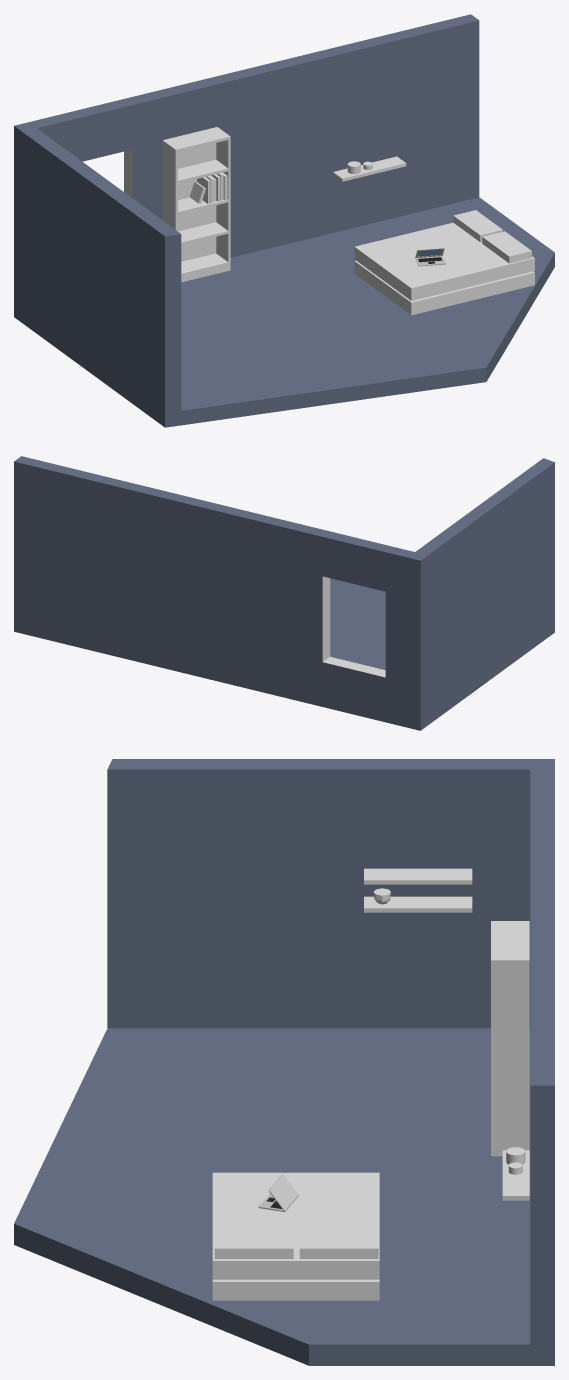
The picture shows the model from 3 angles, top to bottom: view 1: azimuth 30°, elevation 25°; view 2: azimuth 150°, elevation 25°; view 3: azimuth 270°, elevation 25°; orthographic projection. The views are drawn at different scales.
Parts seen in each view (by area): view 1: Cylinder; view 2: Cylinder; view 3: Cylinder.
Boxes of the visible parts, box(x1,y1,x2,y2) form: Cylinder: box(14, 14, 554, 427); Cylinder: box(14, 456, 554, 730); Cylinder: box(14, 759, 554, 1365).
Bounding box in the file's own units: 100 × 40 × 70.
